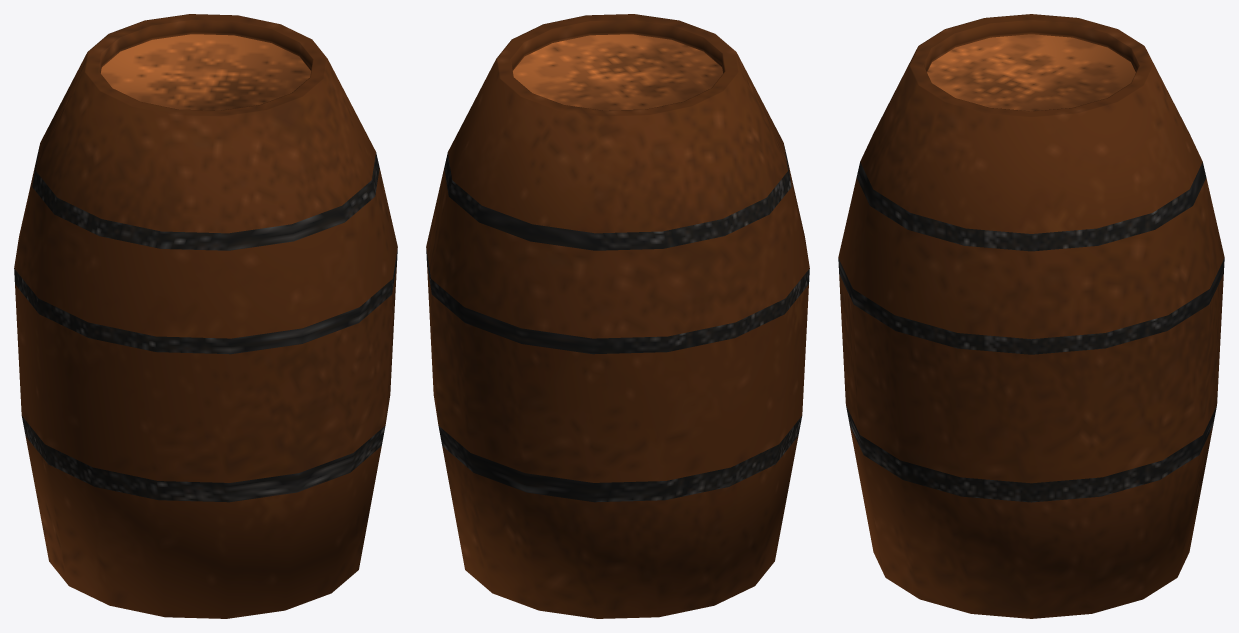
The model's file is Barril.fbx.
The picture shows the model from 3 angles, left to right: view 1: azimuth 30°, elevation 25°; view 2: azimuth 150°, elevation 25°; view 3: azimuth 270°, elevation 25°; orthographic projection.
Parts seen in each view (by area): view 1: Barrel; view 2: Barrel; view 3: Barrel.
Part boxes in pixels (left/top/right/bottom): Barrel: left=14, top=14, right=397, bottom=618; Barrel: left=426, top=14, right=809, bottom=618; Barrel: left=838, top=14, right=1224, bottom=618.
Size of the model in its own units: 245 by 340 by 245.
